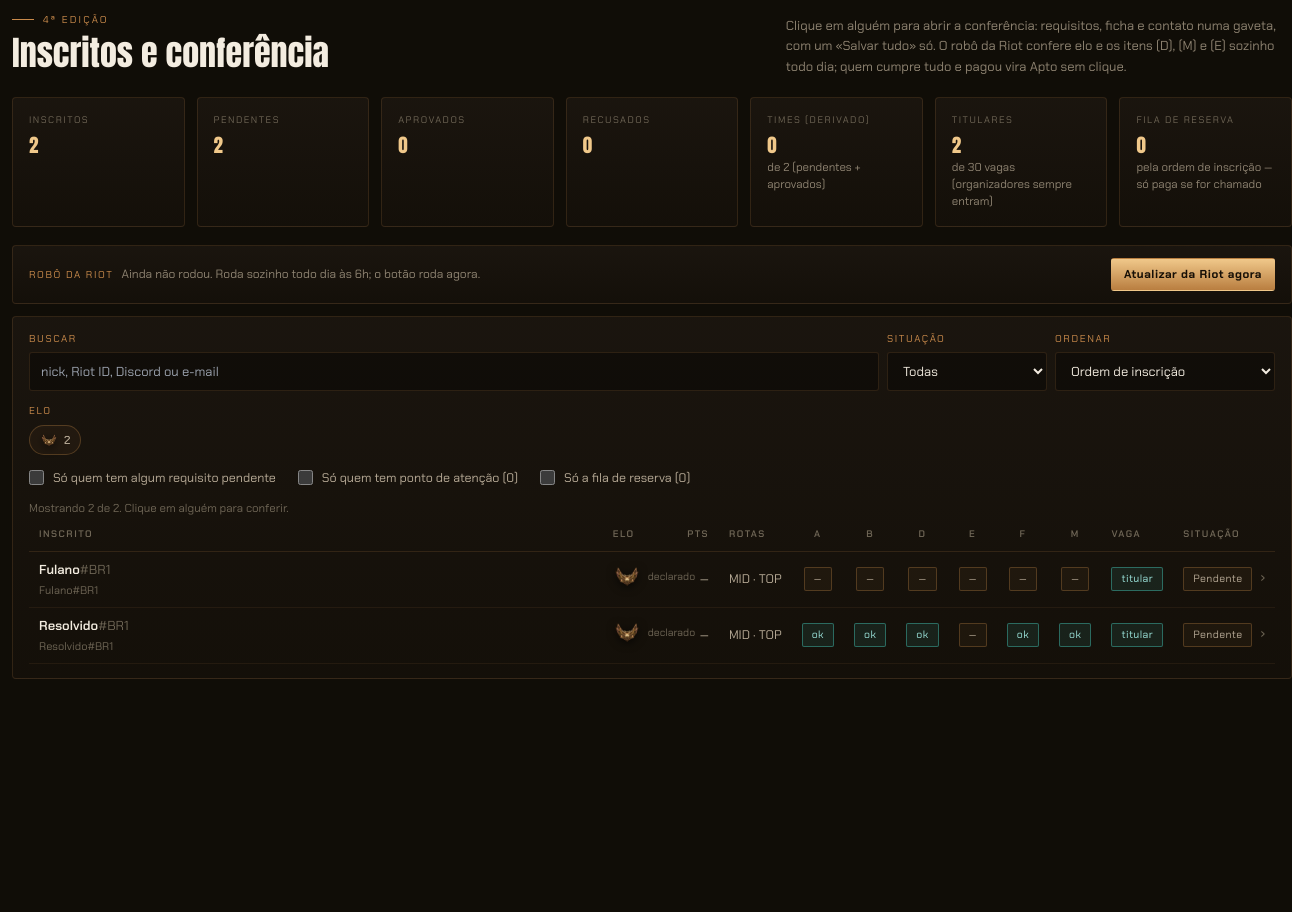
atalho «Pendentes → Cumpre» e o (E), que é do robô › «só quem tem pendência» não conta o (E) que ainda não dá para medir
Click the checkbox labelled "Só quem tem algum requisito pendente" at (36, 478), box top-left (29, 470), bottom-right (44, 485)
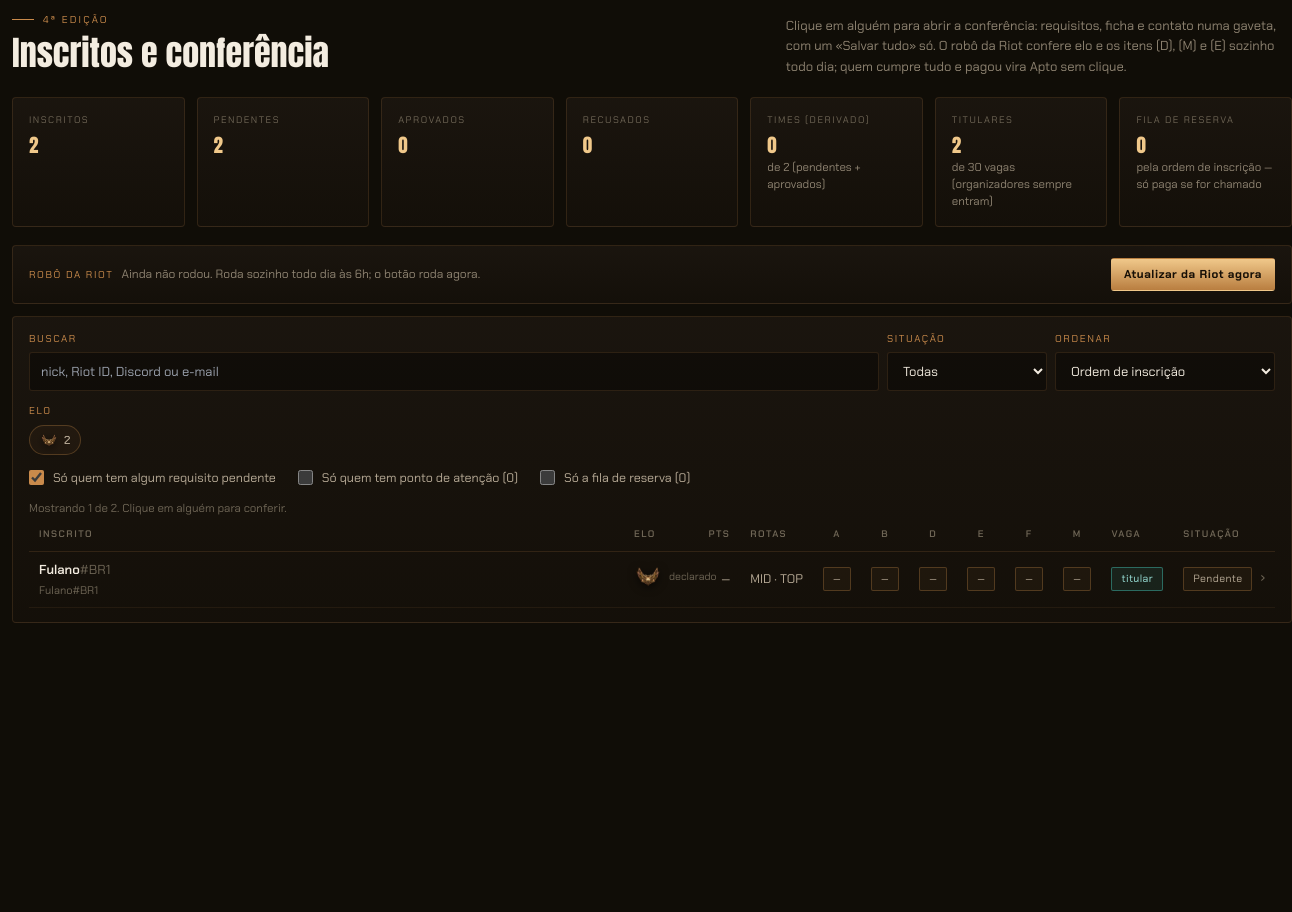
Expected: the button "Fulano#BR1" is shown, top-left (39, 560), bottom-right (110, 579)
Now no buttons "Resolvido" are shown
